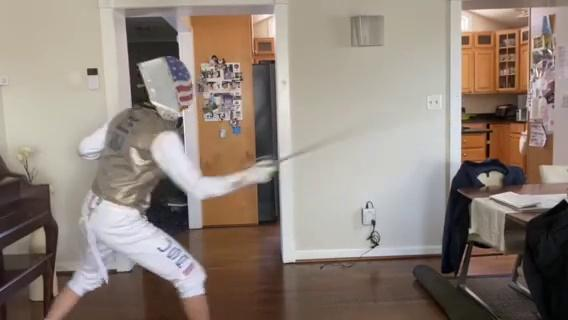blade-guard: (269, 152, 292, 170)
blade-tip: (398, 105, 432, 123)
fencing-blade: (257, 99, 434, 176)
